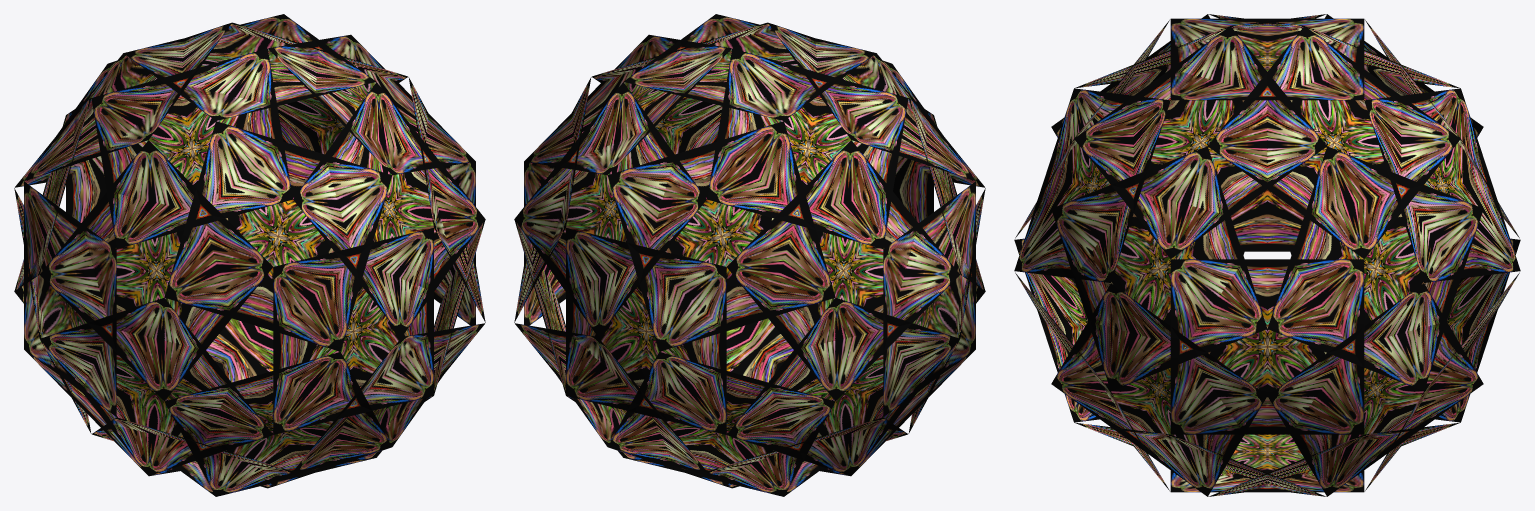
Rendered from Rhombidodecadodecahedron9.gltf.
The picture shows the model from 3 angles, left to right: view 1: azimuth 30°, elevation 25°; view 2: azimuth 150°, elevation 25°; view 3: azimuth 270°, elevation 25°; orthographic projection. The views are drawn at different scales.
Parts seen in each view (by area): view 1: Rhombidodecadodecahedron9; view 2: Rhombidodecadodecahedron9; view 3: Rhombidodecadodecahedron9.
Boxes of the visible parts, <box> form: Rhombidodecadodecahedron9: <box>14,14,485,496</box>; Rhombidodecadodecahedron9: <box>514,14,985,496</box>; Rhombidodecadodecahedron9: <box>1014,14,1520,496</box>.
Size of the model in its own units: 2.62 by 2.62 by 2.62.
Materials: 1 (1 with a texture image).
